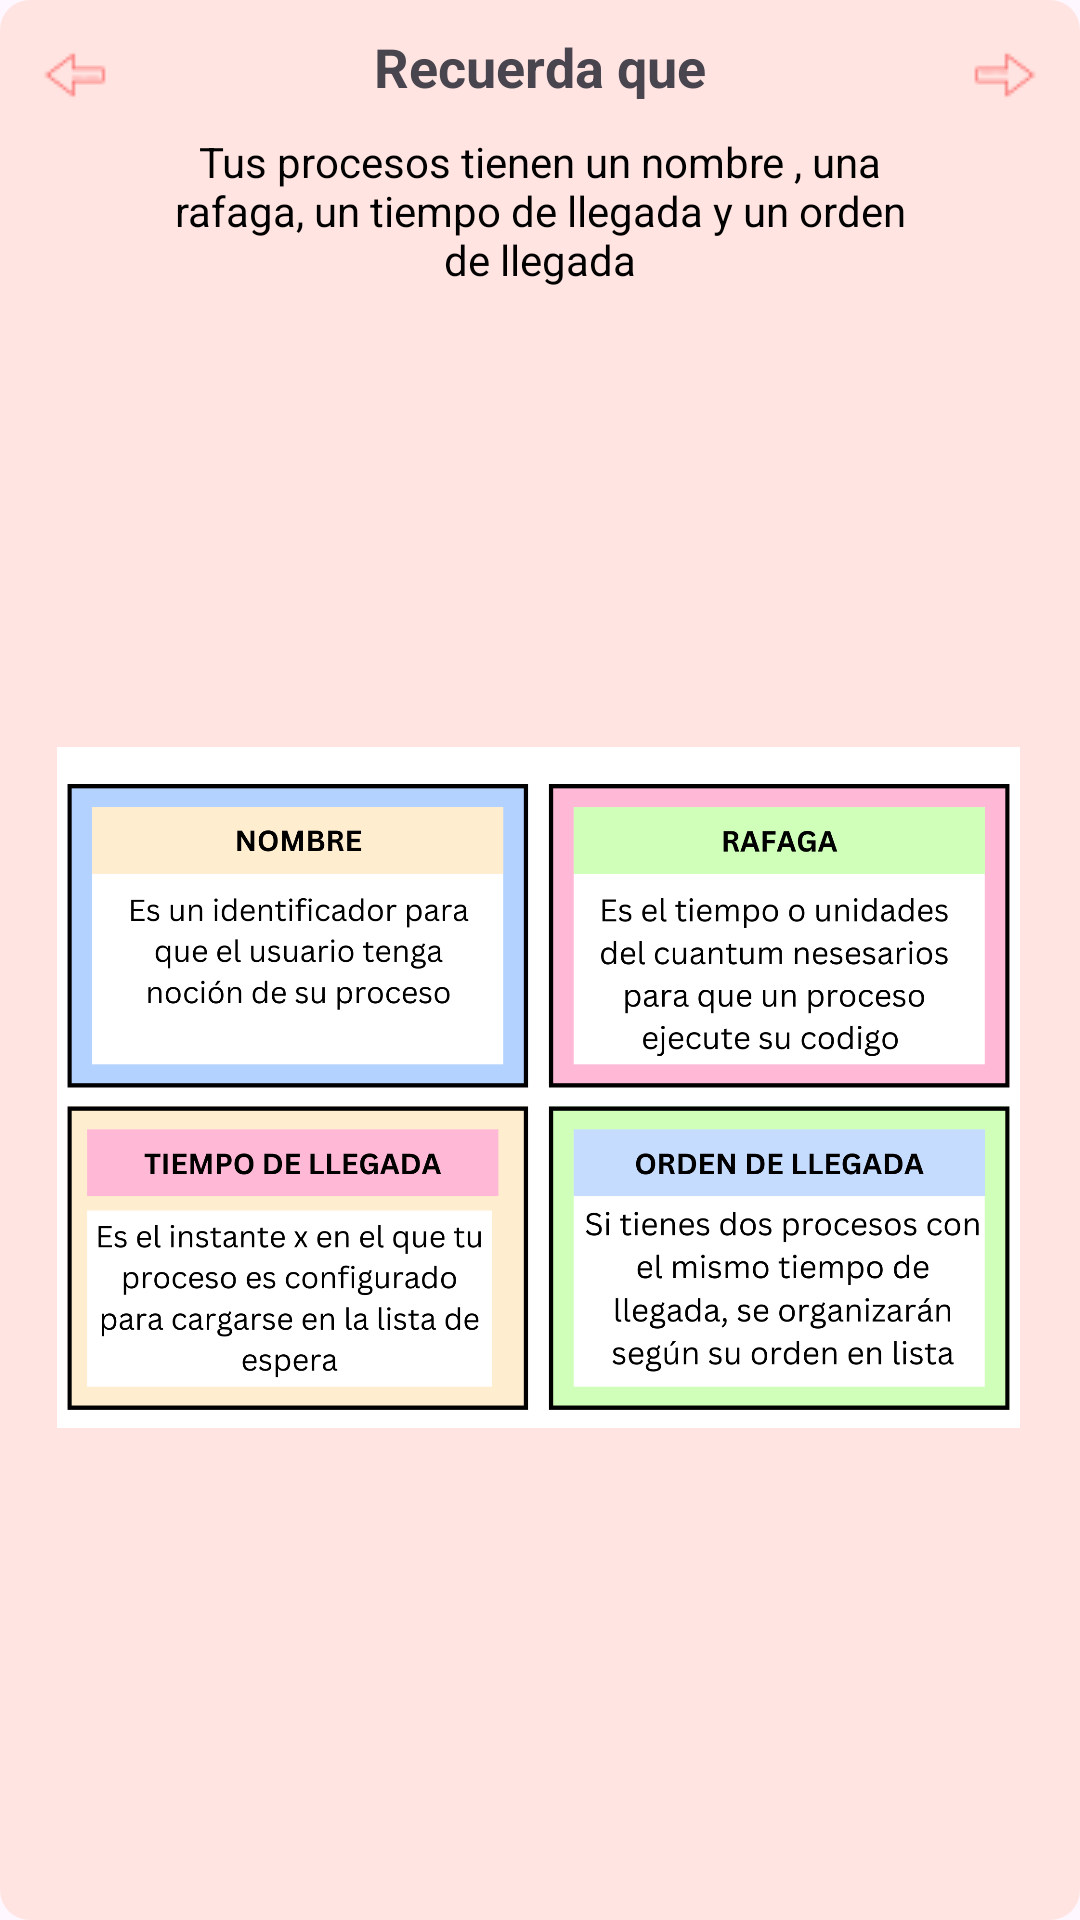

Named icons in this screenshot (1080px×1920px) and their centers, point (x, y):
flecha adelante: point (1004, 75)
flecha atras: point (75, 75)
